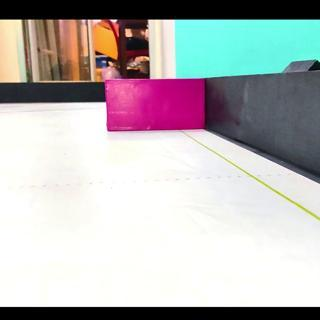xparking: (108, 79, 201, 130)
